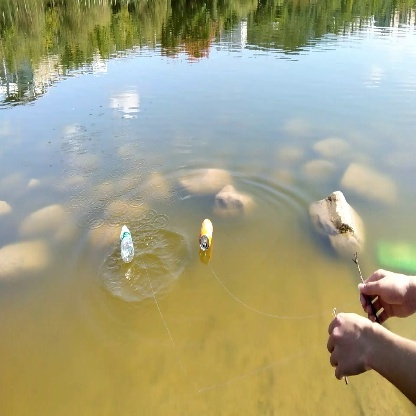bottle: (193, 215, 220, 255), (118, 220, 137, 268)
